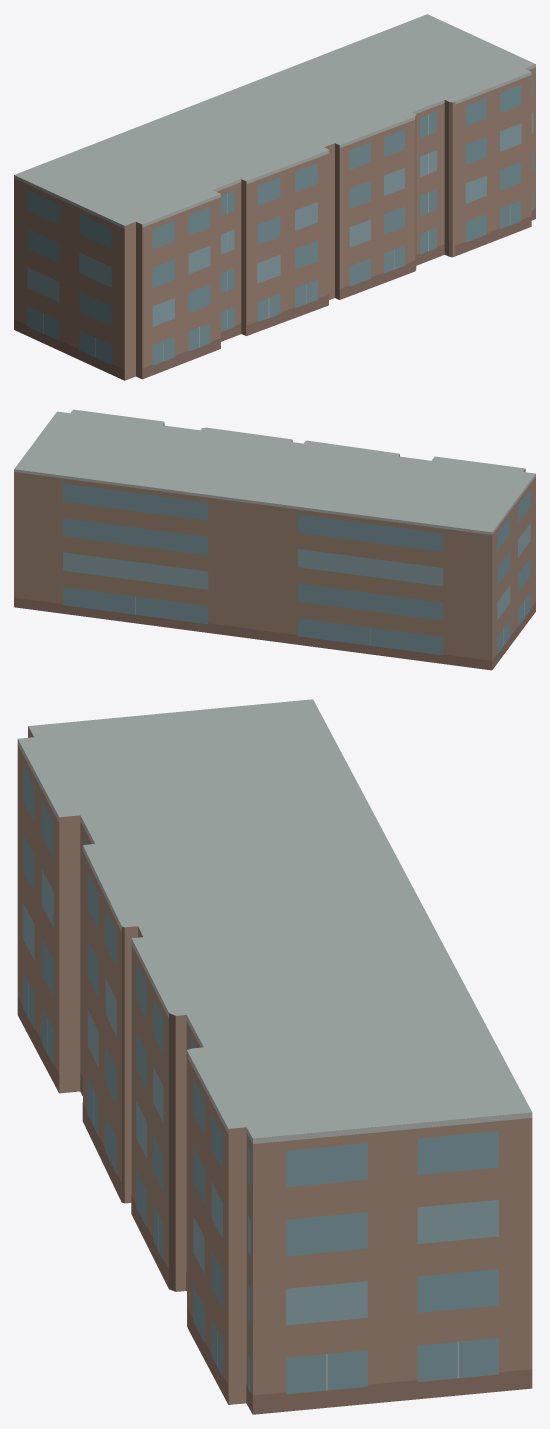
The model's file is survey-upis-33023867.glb.
3 renders of one model, top to bottom at view 1: azimuth 30°, elevation 25°; view 2: azimuth 150°, elevation 25°; view 3: azimuth 270°, elevation 25°, orthographic. The views are drawn at different scales.
Visible parts, largest first — view 1: survey-upis-33023867.tmp; view 2: survey-upis-33023867.tmp; view 3: survey-upis-33023867.tmp.
Boxes of the visible parts, bbox=[...] form: survey-upis-33023867.tmp: bbox=[14, 14, 535, 380]; survey-upis-33023867.tmp: bbox=[14, 409, 535, 670]; survey-upis-33023867.tmp: bbox=[17, 699, 532, 1414].
Bounding box in the file's own units: 41.64 × 12.2 × 20.62.
